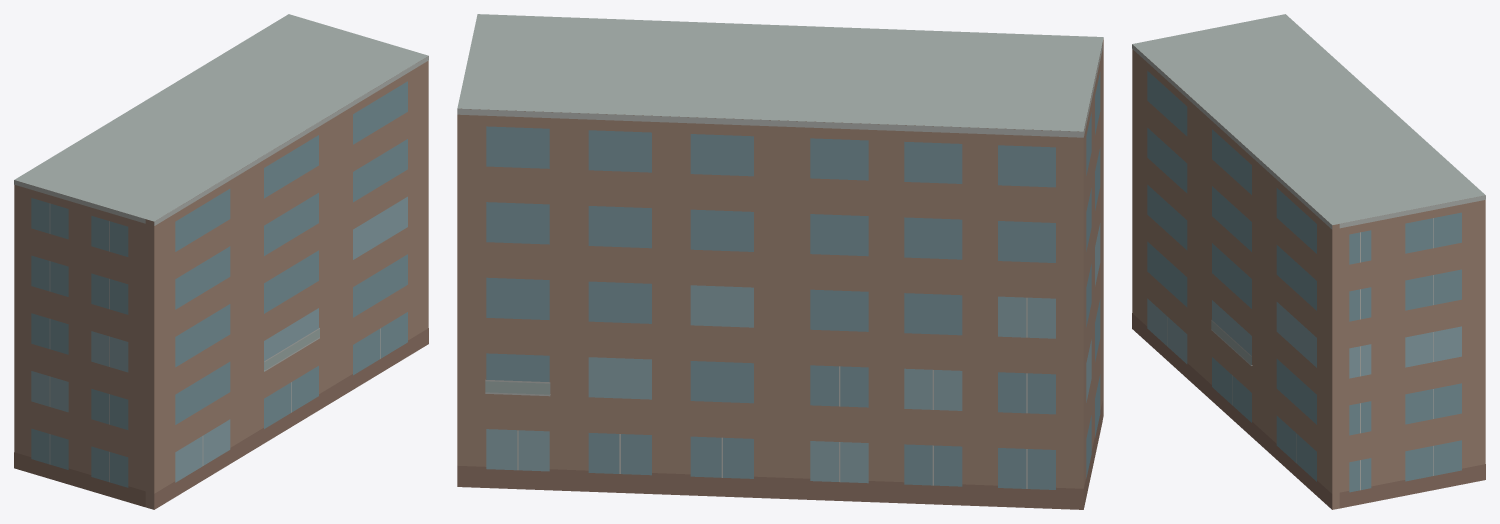
The model's file is survey-upis-32618838.glb.
3 renders of one model, left to right at view 1: azimuth 30°, elevation 25°; view 2: azimuth 150°, elevation 25°; view 3: azimuth 270°, elevation 25°, orthographic. The views are drawn at different scales.
Parts seen in each view (by area): view 1: survey-upis-32618838.tmp; view 2: survey-upis-32618838.tmp; view 3: survey-upis-32618838.tmp.
Part boxes in pixels (left/top/right/bottom): survey-upis-32618838.tmp: left=14, top=14, right=428, bottom=509; survey-upis-32618838.tmp: left=457, top=14, right=1103, bottom=509; survey-upis-32618838.tmp: left=1132, top=14, right=1485, bottom=509.
Bounding box in the file's own units: 24.03 × 15.1 × 17.01.
